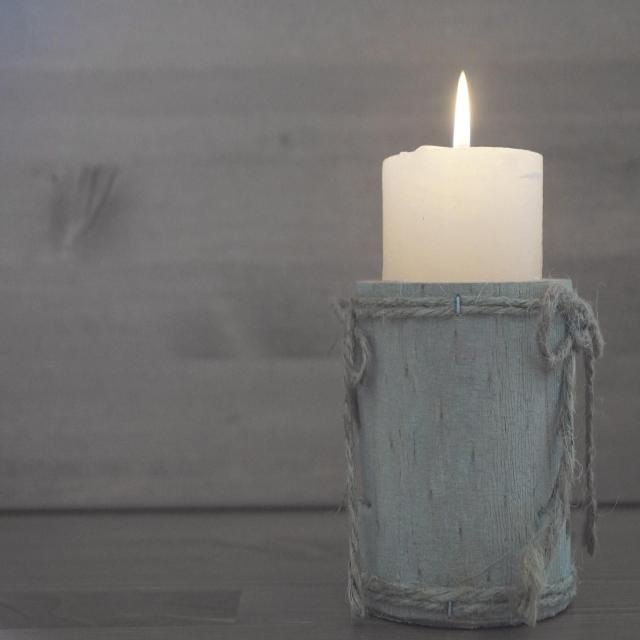Fire_Save: (381, 69, 544, 282)
